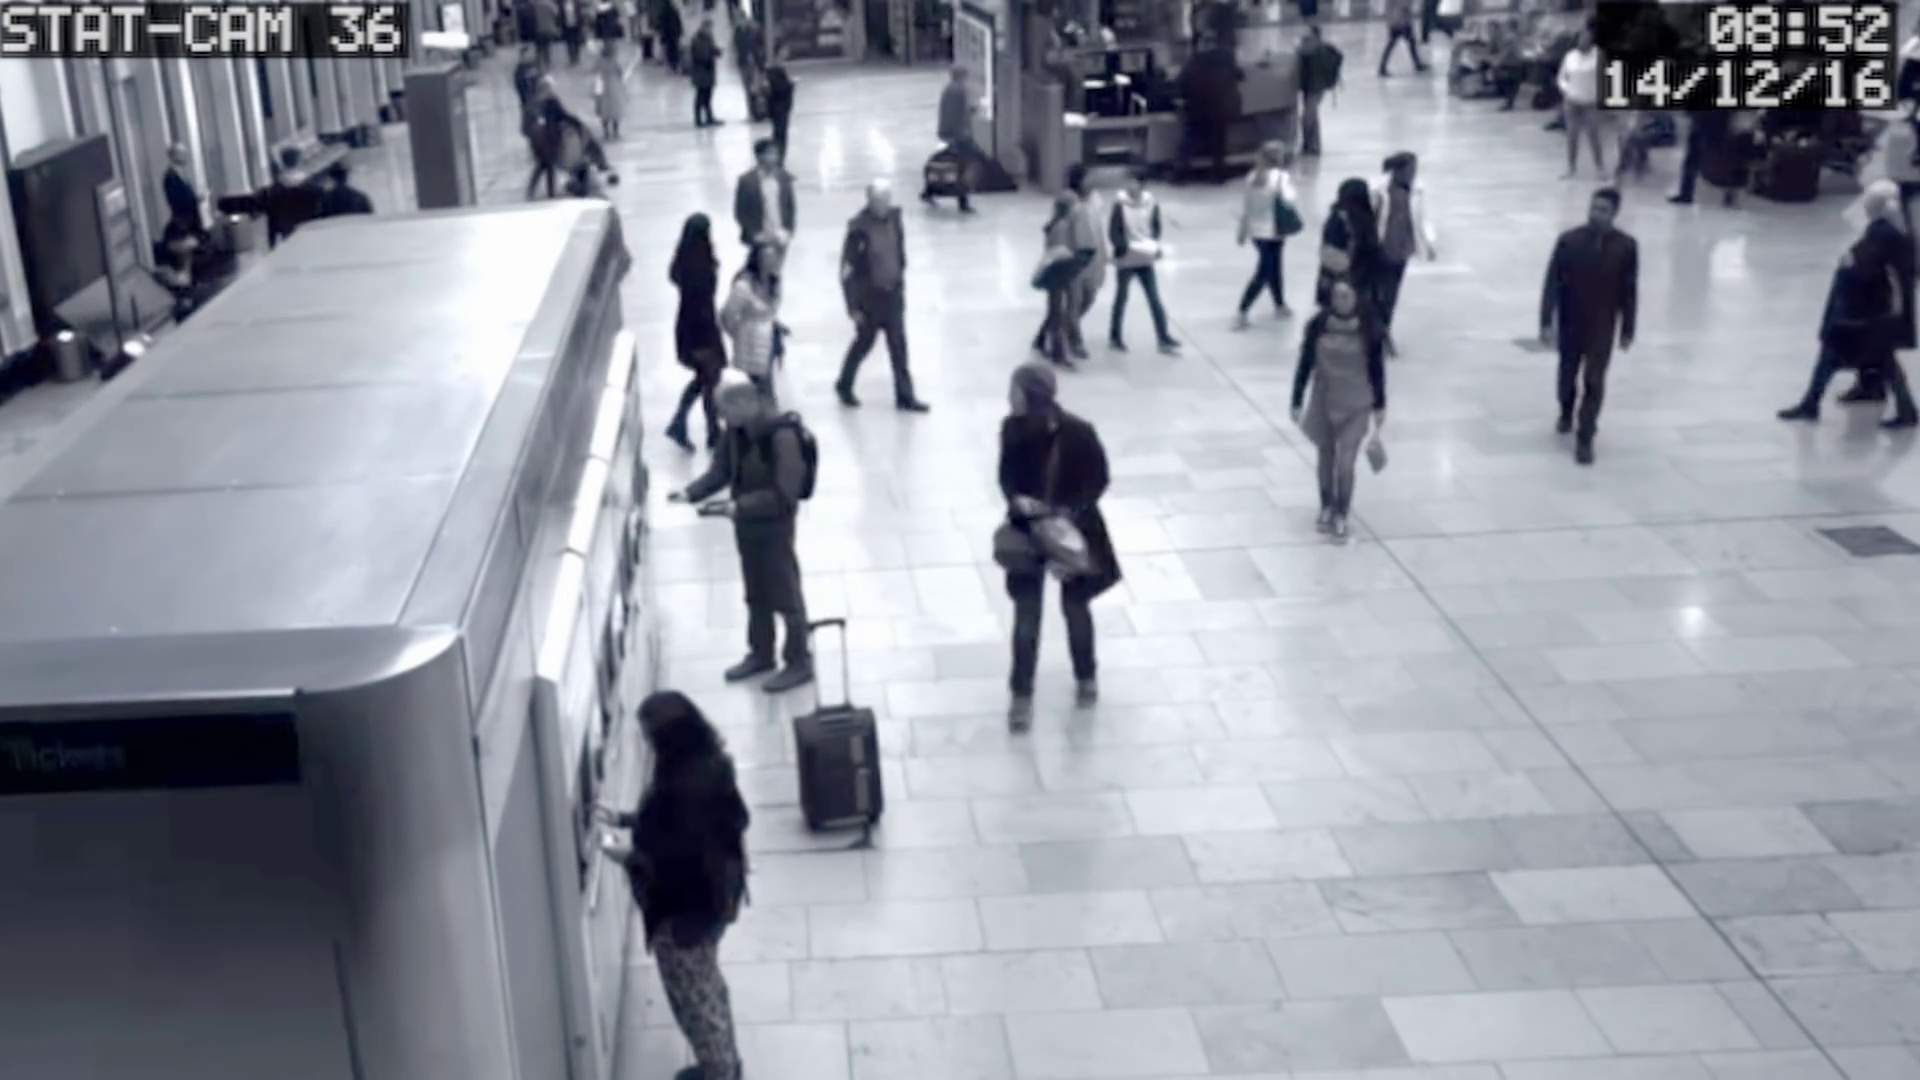face: (1320, 285, 1363, 319), (1001, 377, 1035, 408), (1583, 195, 1612, 229), (868, 188, 894, 220)
